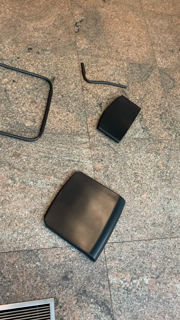Back: (95, 94, 143, 148)
L pipe: (79, 61, 129, 92)
Seat: (42, 169, 127, 263)
